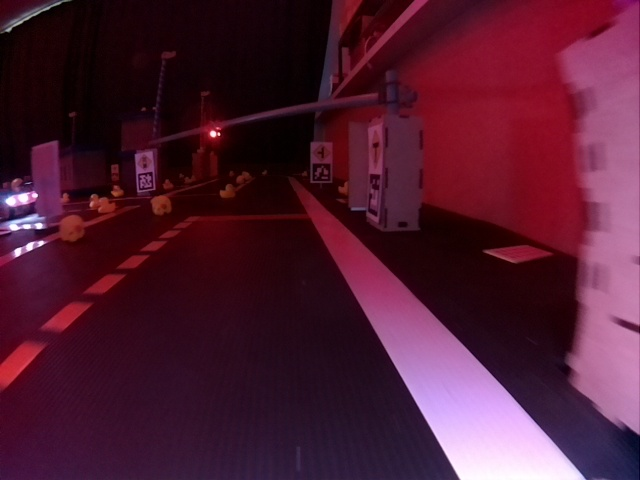Duckie: (59, 216, 85, 242), (152, 197, 171, 215), (99, 198, 115, 209), (220, 186, 234, 196), (89, 194, 98, 208), (111, 185, 121, 197), (339, 182, 348, 194), (60, 193, 70, 203), (236, 175, 245, 184), (163, 180, 171, 189)
Intersection sign: (368, 130, 383, 170), (311, 142, 331, 162)
QR code: (367, 173, 380, 218), (311, 163, 331, 182), (137, 173, 154, 189)
Signal sign: (135, 154, 150, 170)
Traffic light: (208, 124, 222, 140)
